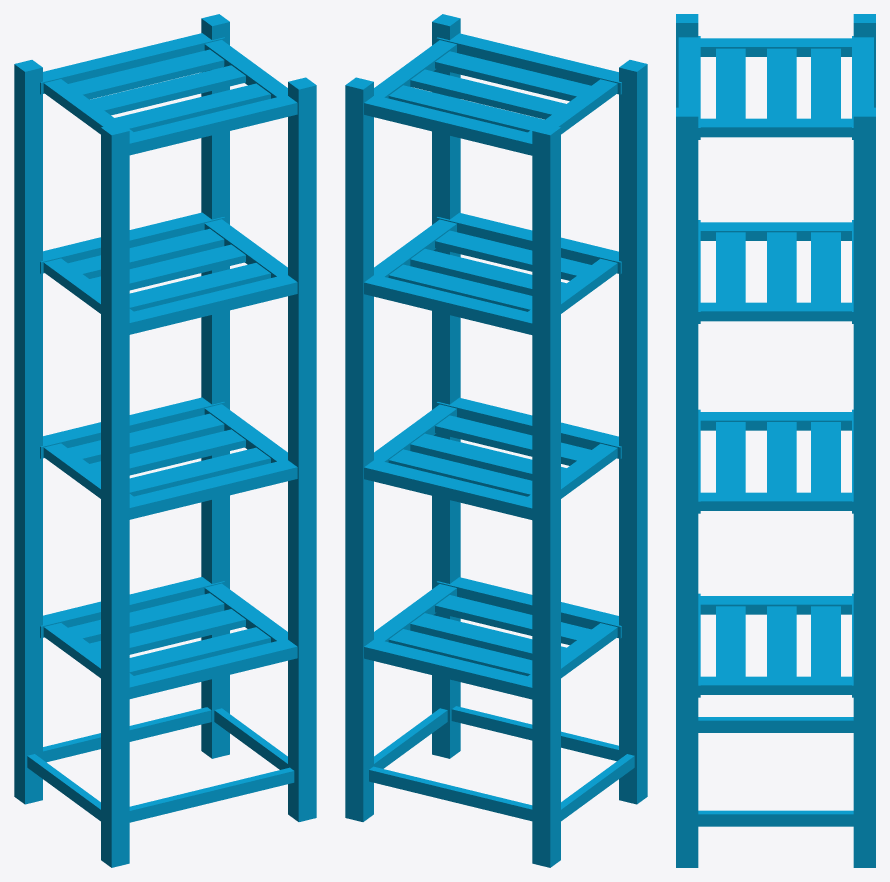
File: Cupboard_17_Lod0.fbx
3 views of the same model, side by side, from view 1: azimuth 30°, elevation 25°; view 2: azimuth 150°, elevation 25°; view 3: azimuth 270°, elevation 25° (orthographic). The views are drawn at different scales.
Parts seen in each view (by area): view 1: Cupboard_17_Lod0; view 2: Cupboard_17_Lod0; view 3: Cupboard_17_Lod0.
Boxes of the visible parts, <box> form: Cupboard_17_Lod0: <box>14,14,316,867</box>; Cupboard_17_Lod0: <box>345,14,647,867</box>; Cupboard_17_Lod0: <box>676,14,875,867</box>.
Bounding box in the file's own units: 62.95 × 215 × 51.78.
